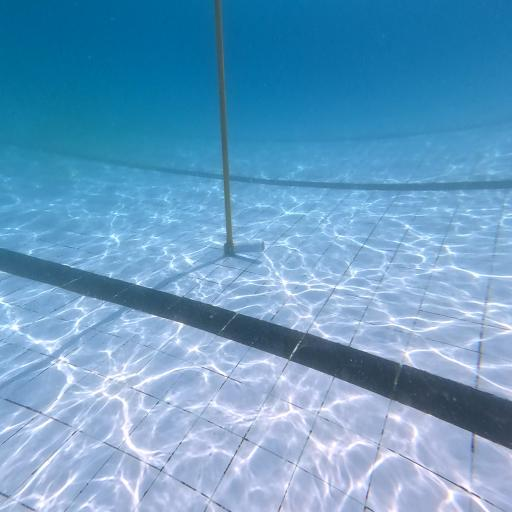pole_gate: (214, 2, 234, 254)
